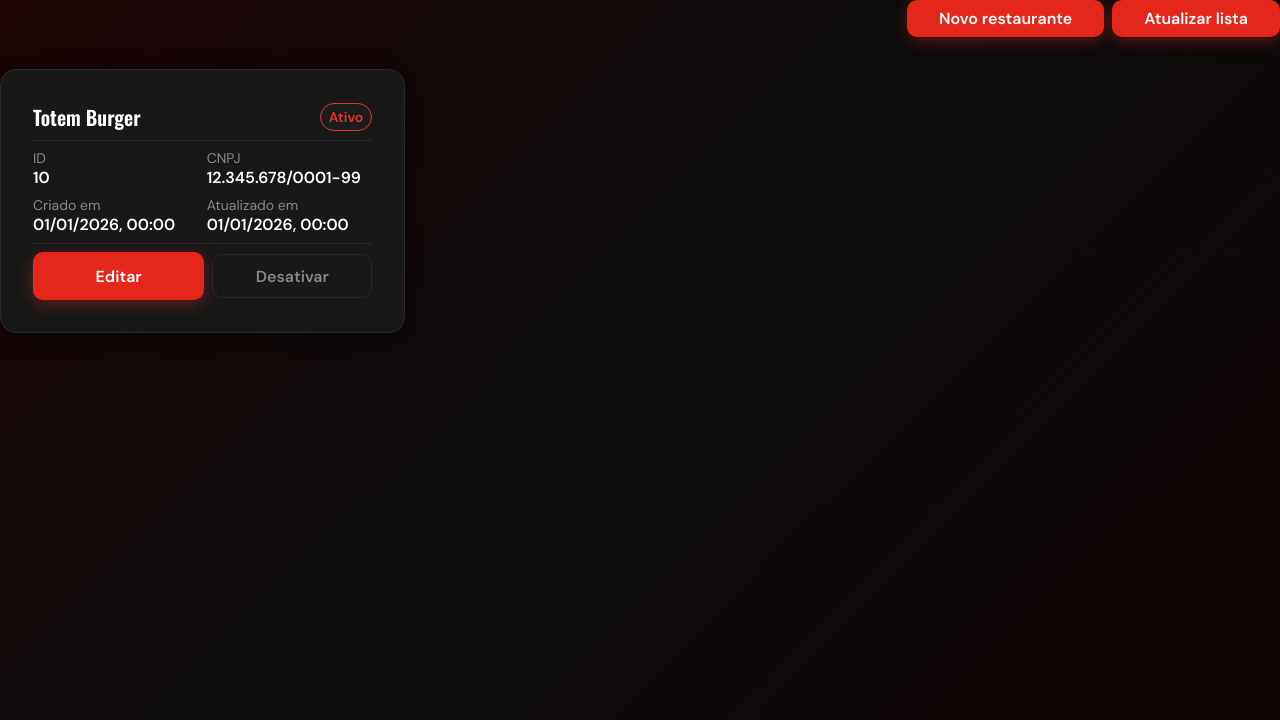
Test case: AdminRestaurantesPage › abre o modal de cadastro ao clicar em 'Novo restaurante' e fecha ao cancelar
Check: the heading "Totem Burger" is shown, box x1=33 y1=102 x2=141 y2=132
Click the button "Novo restaurante" at (1006, 18), box x1=907 y1=0 x2=1104 y2=37
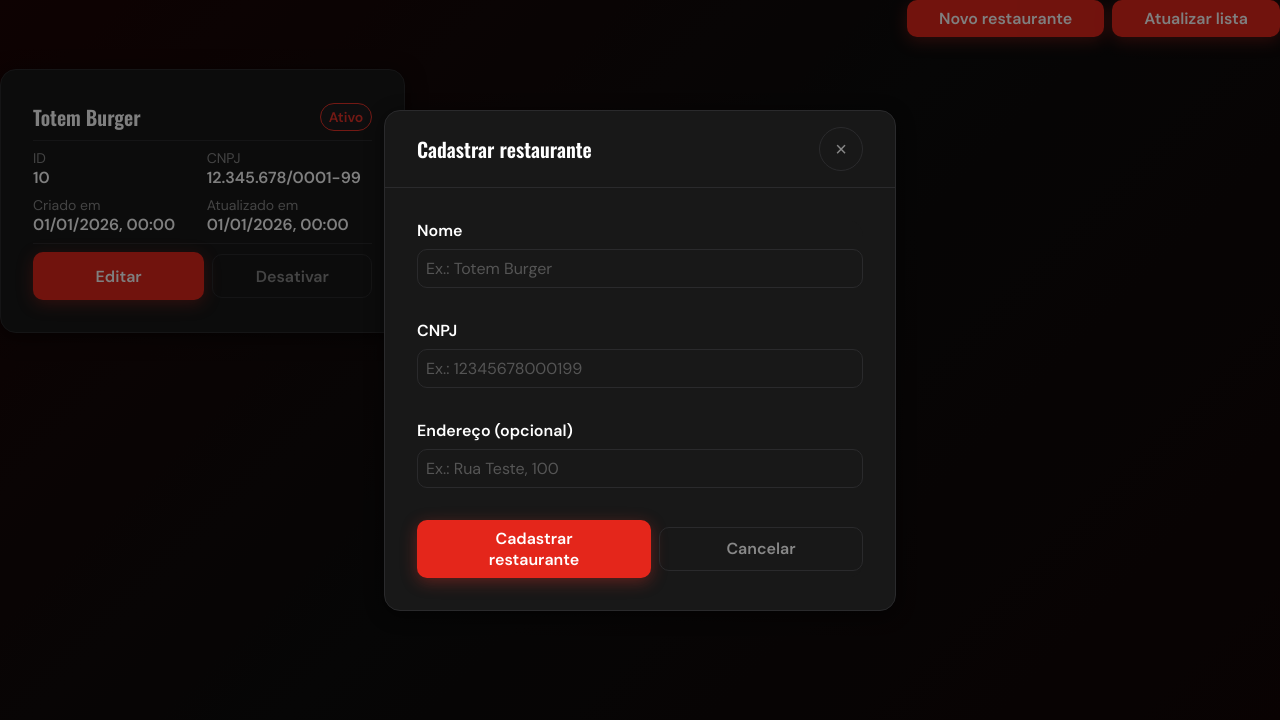
Check: the heading "Cadastrar restaurante" is shown, box x1=417 y1=134 x2=592 y2=164
Click the button "Cancelar" at (761, 548), box x1=659 y1=526 x2=863 y2=570
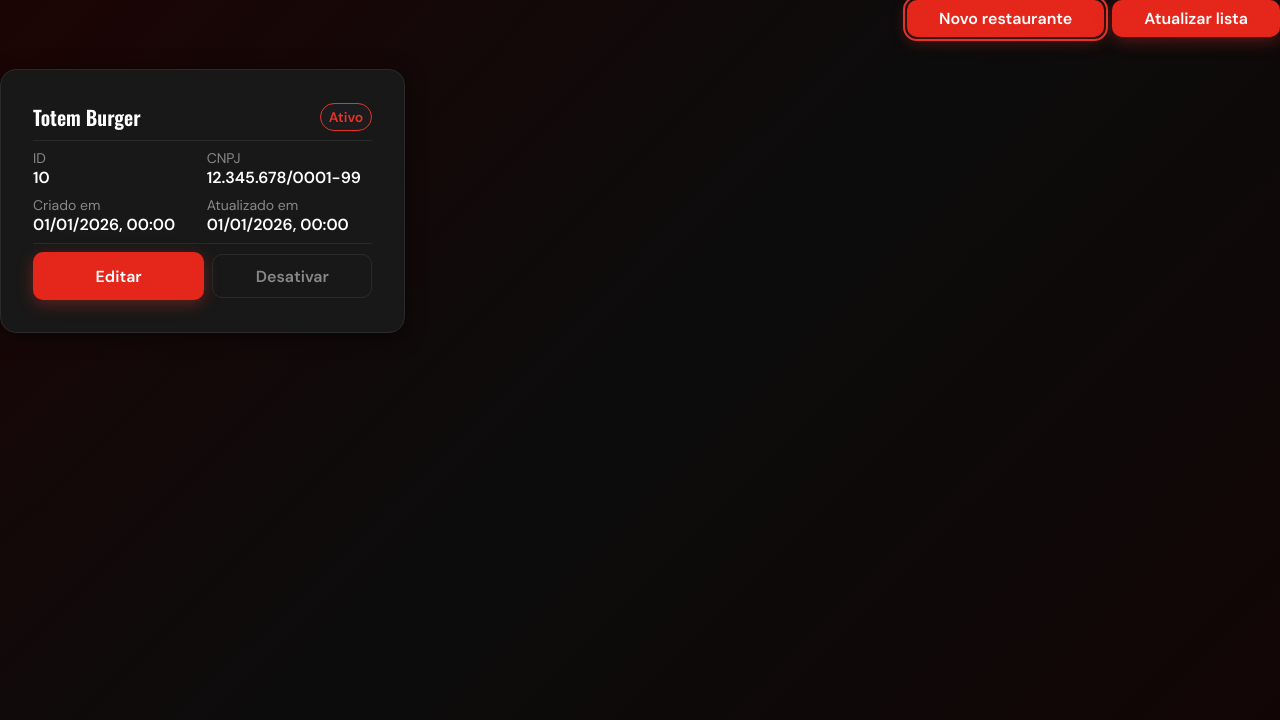
Check: the dialog is gone
